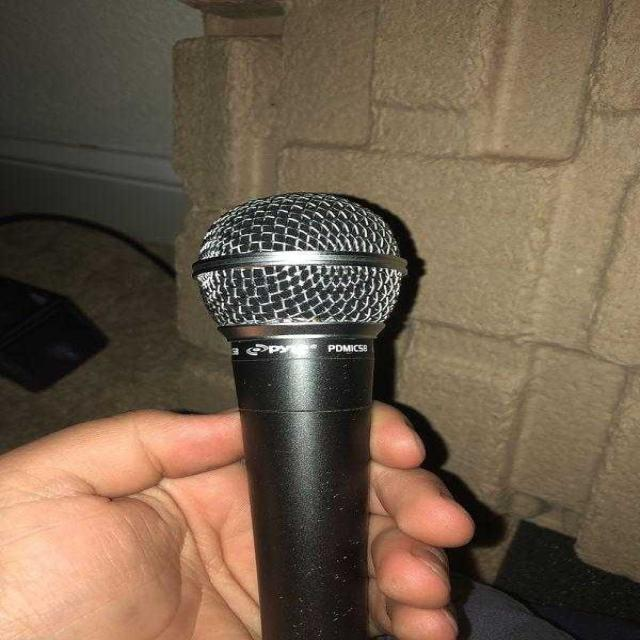microphone: (189, 190, 419, 637)
